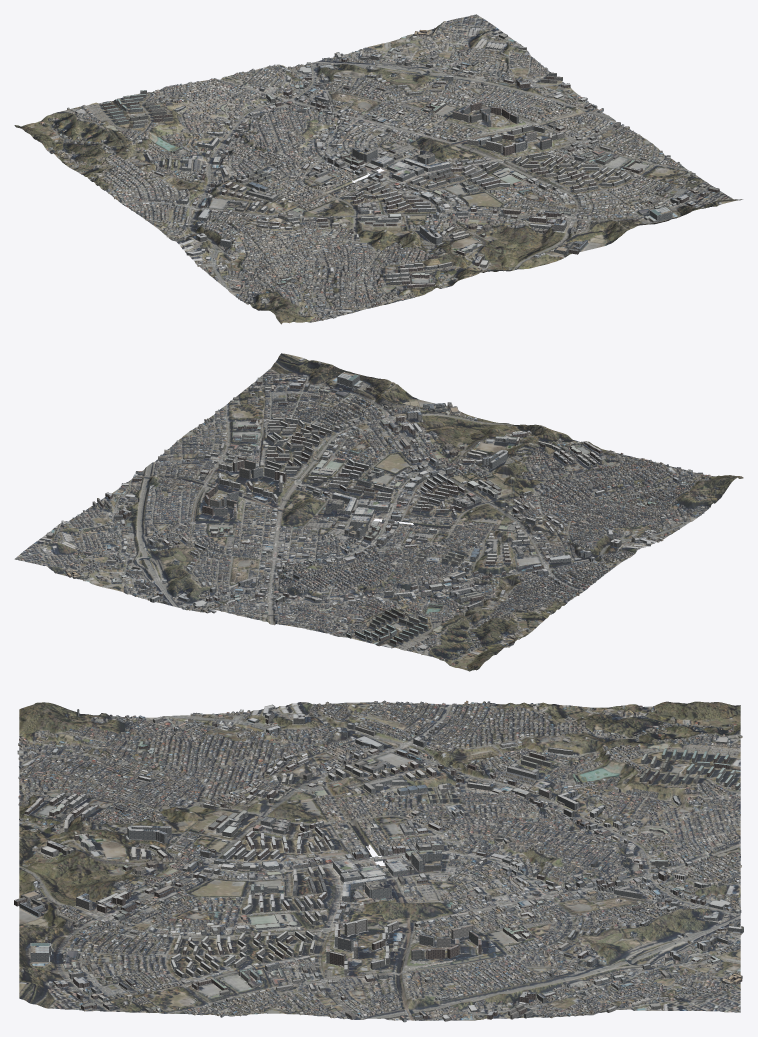
The model's file is city.glb.
The picture shows the model from 3 angles, top to bottom: view 1: azimuth 30°, elevation 25°; view 2: azimuth 150°, elevation 25°; view 3: azimuth 270°, elevation 25°; orthographic projection. The views are drawn at different scales.
Visible parts, largest first — view 1: Terrain, Bldg_roof, Bldg_facade_house_a, Bldg_facade_house_c, Bldg_facade_house_b, Bldg_facade_office, Bldg_facade_apt_b, Bldg_facade_apt_c, Bldg_facade_apt_a, Bldg_facade_shop; view 2: Terrain, Bldg_roof, Bldg_facade_house_a, Bldg_facade_house_b, Bldg_facade_house_c, Bldg_facade_office, Bldg_facade_apt_b, Bldg_facade_apt_c, Bldg_facade_apt_a, Bldg_facade_shop; view 3: Terrain, Bldg_roof, Bldg_facade_house_a, Bldg_facade_house_b, Bldg_facade_house_c, Bldg_facade_office, Bldg_facade_apt_b, Bldg_facade_apt_c, Bldg_facade_apt_a, Bldg_facade_shop.
Boxes of the visible parts, bbox=[...] form: Terrain: bbox=[14, 14, 742, 324]; Bldg_roof: bbox=[40, 24, 718, 320]; Bldg_facade_house_a: bbox=[40, 24, 713, 319]; Bldg_facade_house_c: bbox=[43, 27, 704, 319]; Bldg_facade_house_b: bbox=[49, 29, 719, 321]; Bldg_facade_office: bbox=[112, 45, 698, 308]; Bldg_facade_apt_b: bbox=[48, 30, 695, 299]; Bldg_facade_apt_c: bbox=[62, 30, 719, 287]; Bldg_facade_apt_a: bbox=[75, 31, 708, 285]; Bldg_facade_shop: bbox=[302, 151, 452, 202]; Terrain: bbox=[14, 353, 743, 671]; Bldg_roof: bbox=[46, 362, 715, 664]; Bldg_facade_house_a: bbox=[51, 379, 710, 665]; Bldg_facade_house_b: bbox=[56, 382, 711, 659]; Bldg_facade_house_c: bbox=[55, 362, 717, 663]; Bldg_facade_office: bbox=[69, 372, 716, 636]; Bldg_facade_apt_b: bbox=[61, 380, 687, 661]; Bldg_facade_apt_c: bbox=[66, 377, 657, 644]; Bldg_facade_apt_a: bbox=[46, 382, 656, 649]; Bldg_facade_shop: bbox=[325, 487, 457, 548]; Terrain: bbox=[19, 701, 740, 1020]; Bldg_roof: bbox=[14, 700, 743, 1018]; Bldg_facade_house_a: bbox=[18, 701, 741, 1020]; Bldg_facade_house_b: bbox=[18, 700, 742, 1019]; Bldg_facade_house_c: bbox=[17, 702, 741, 1022]; Bldg_facade_office: bbox=[19, 704, 743, 1018]; Bldg_facade_apt_b: bbox=[21, 713, 738, 1021]; Bldg_facade_apt_c: bbox=[14, 710, 742, 1019]; Bldg_facade_apt_a: bbox=[56, 713, 742, 1012]; Bldg_facade_shop: bbox=[282, 823, 449, 902].
Bounding box in the file's own units: 2315 × 99.69 × 2322.
9 materials, 9 textured.
